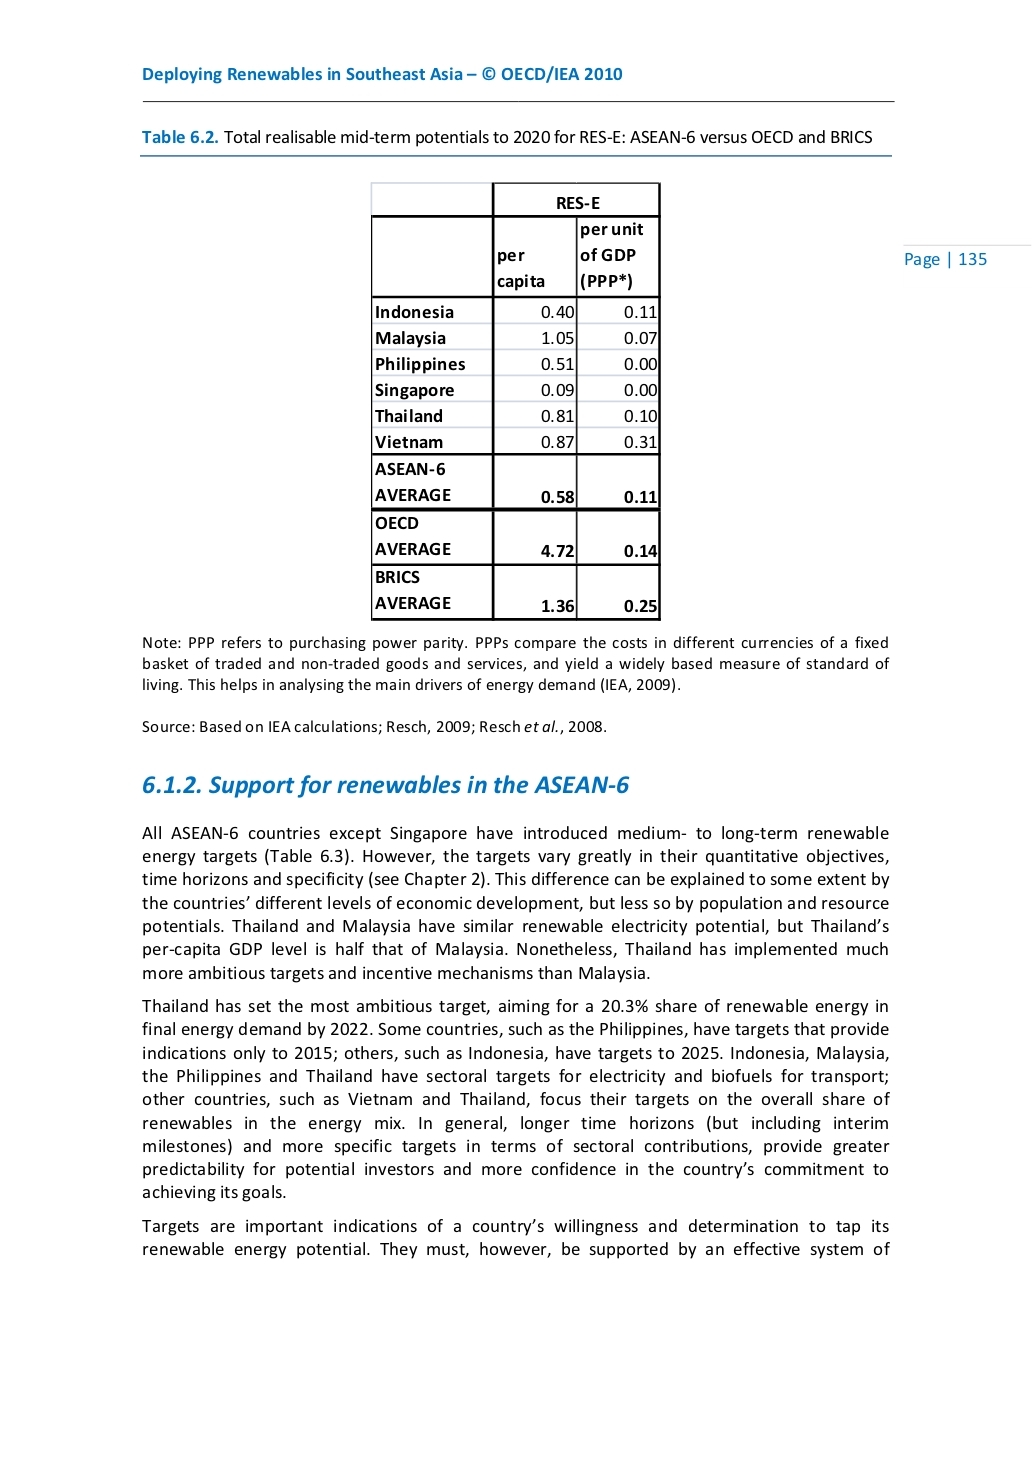Table: (371, 181, 660, 621)
